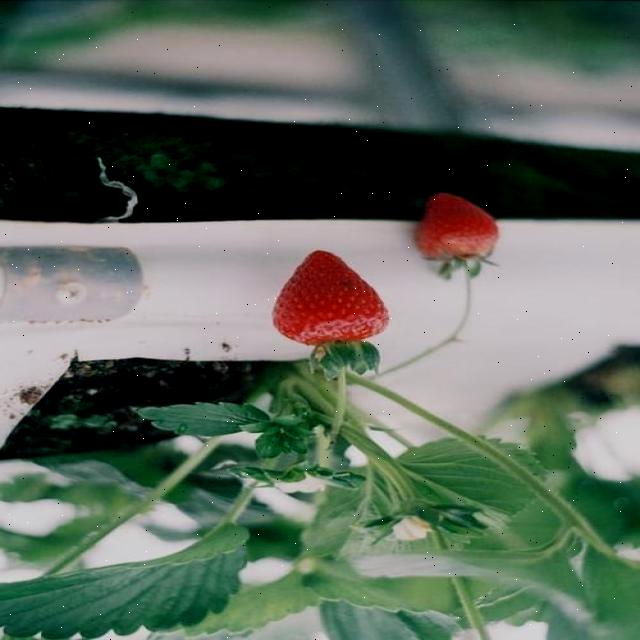ripe: (272, 251, 389, 344), (416, 192, 496, 259)
